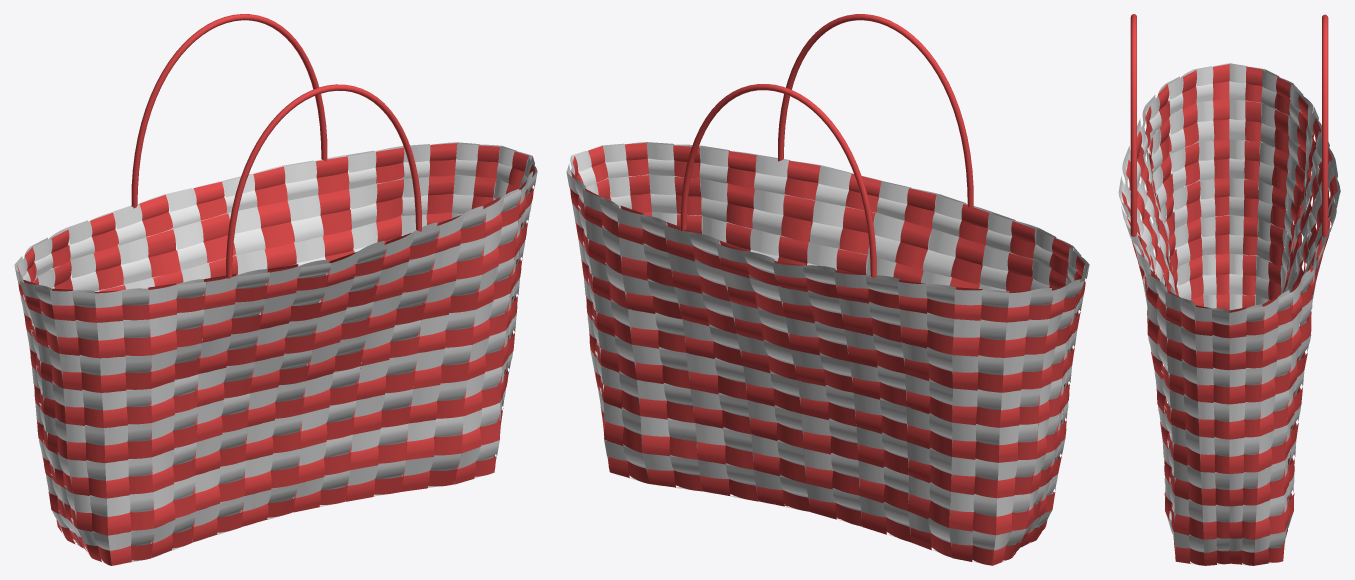
Rendered from product3.glb.
3 views of the same model, side by side, from view 1: azimuth 30°, elevation 25°; view 2: azimuth 150°, elevation 25°; view 3: azimuth 270°, elevation 25° (orthographic).
Visible parts, largest first — view 1: Tessellation.002, NurbsCurve.003, NurbsCurve.002; view 2: Tessellation.002, NurbsCurve.002, NurbsCurve.003; view 3: Tessellation.002, NurbsCurve.002, NurbsCurve.003.
Boxes of the visible parts, left/top/right/bottom form: Tessellation.002: left=14, top=142, right=537, bottom=565; NurbsCurve.003: left=226, top=84, right=421, bottom=278; NurbsCurve.002: left=131, top=14, right=327, bottom=208; Tessellation.002: left=566, top=142, right=1089, bottom=565; NurbsCurve.002: left=680, top=84, right=876, bottom=278; NurbsCurve.003: left=778, top=14, right=973, bottom=207; Tessellation.002: left=1118, top=63, right=1340, bottom=565; NurbsCurve.002: left=1322, top=14, right=1328, bottom=237; NurbsCurve.003: left=1130, top=14, right=1136, bottom=236.
Size of the model in its own units: 3.68 by 3.12 by 1.39.
